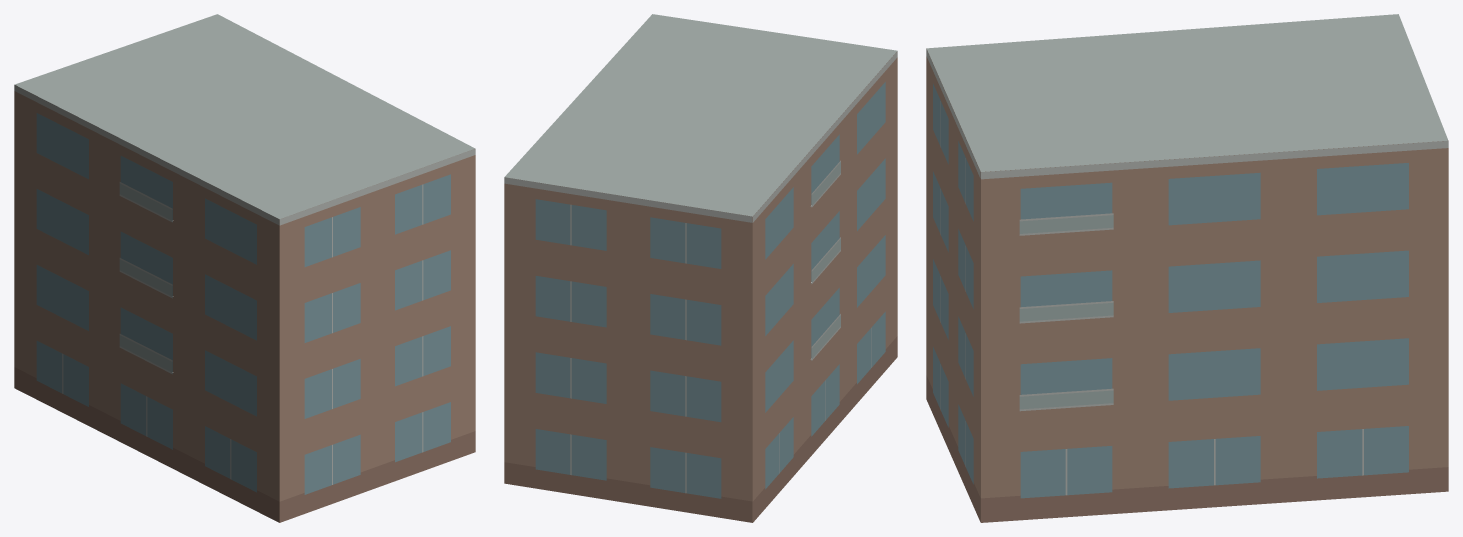
File: survey-upis-32948661.glb
3 renders of one model, left to right at view 1: azimuth 30°, elevation 25°; view 2: azimuth 150°, elevation 25°; view 3: azimuth 270°, elevation 25°, orthographic. The views are drawn at different scales.
Parts seen in each view (by area): view 1: survey-upis-32948661.tmp; view 2: survey-upis-32948661.tmp; view 3: survey-upis-32948661.tmp.
Part boxes in pixels (<box>): survey-upis-32948661.tmp: <box>14,14,475,522</box>; survey-upis-32948661.tmp: <box>504,14,897,522</box>; survey-upis-32948661.tmp: <box>926,14,1448,522</box>.
Bounding box in the file's own units: 11.31 × 11.7 × 15.79.
